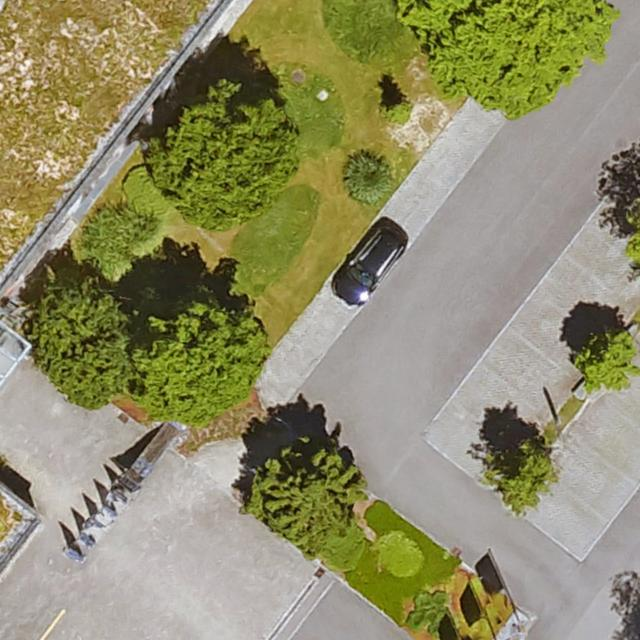tree: (398, 0, 615, 123), (145, 92, 291, 227), (140, 293, 269, 415), (249, 448, 364, 548), (41, 292, 138, 406), (480, 441, 561, 521), (577, 320, 640, 391), (622, 200, 640, 266), (380, 101, 415, 126)
